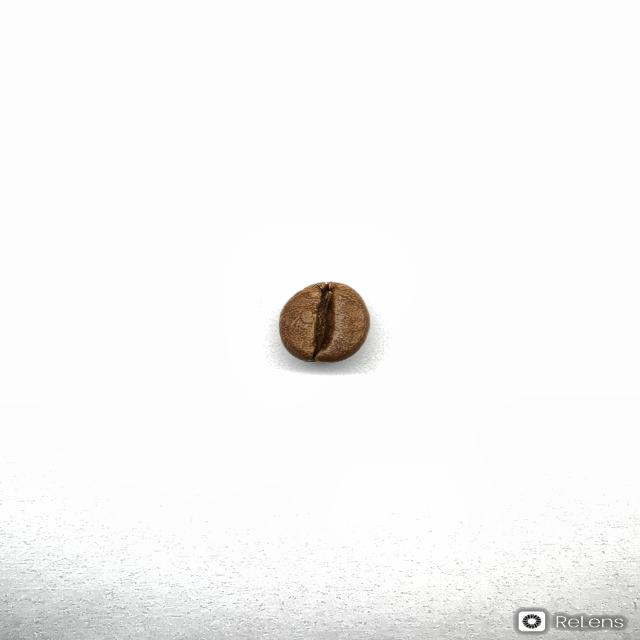Good bean: (278, 281, 370, 363)
